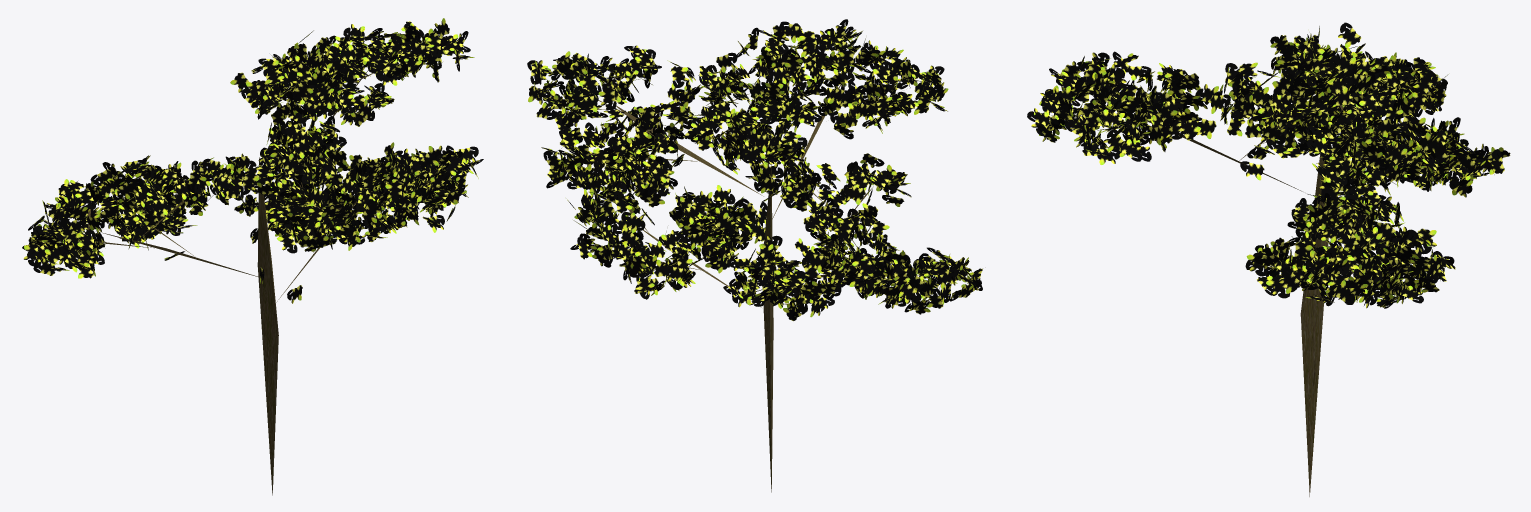
File: acacia_flat_v03_LOD2.fbx
3 views of the same model, side by side, from view 1: azimuth 30°, elevation 25°; view 2: azimuth 150°, elevation 25°; view 3: azimuth 270°, elevation 25° (orthographic). The views are drawn at different scales.
Parts seen in each view (by area): view 1: acacia_flat_v03_LOD2; view 2: acacia_flat_v03_LOD2; view 3: acacia_flat_v03_LOD2.
Boxes of the visible parts, bbox=[...] form: acacia_flat_v03_LOD2: bbox=[22, 18, 483, 495]; acacia_flat_v03_LOD2: bbox=[527, 19, 982, 492]; acacia_flat_v03_LOD2: bbox=[1027, 22, 1510, 496].
Size of the model in its own units: 1257 by 1053 by 1153.
Materials: 2 (2 with a texture image).
